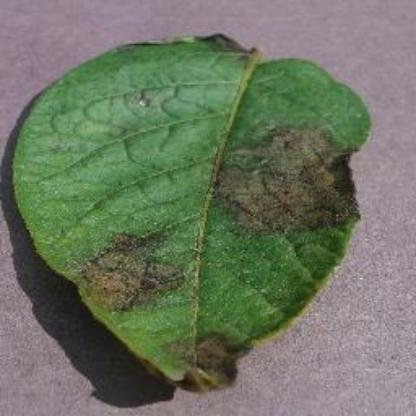Late-Blight: (6, 22, 406, 408)
